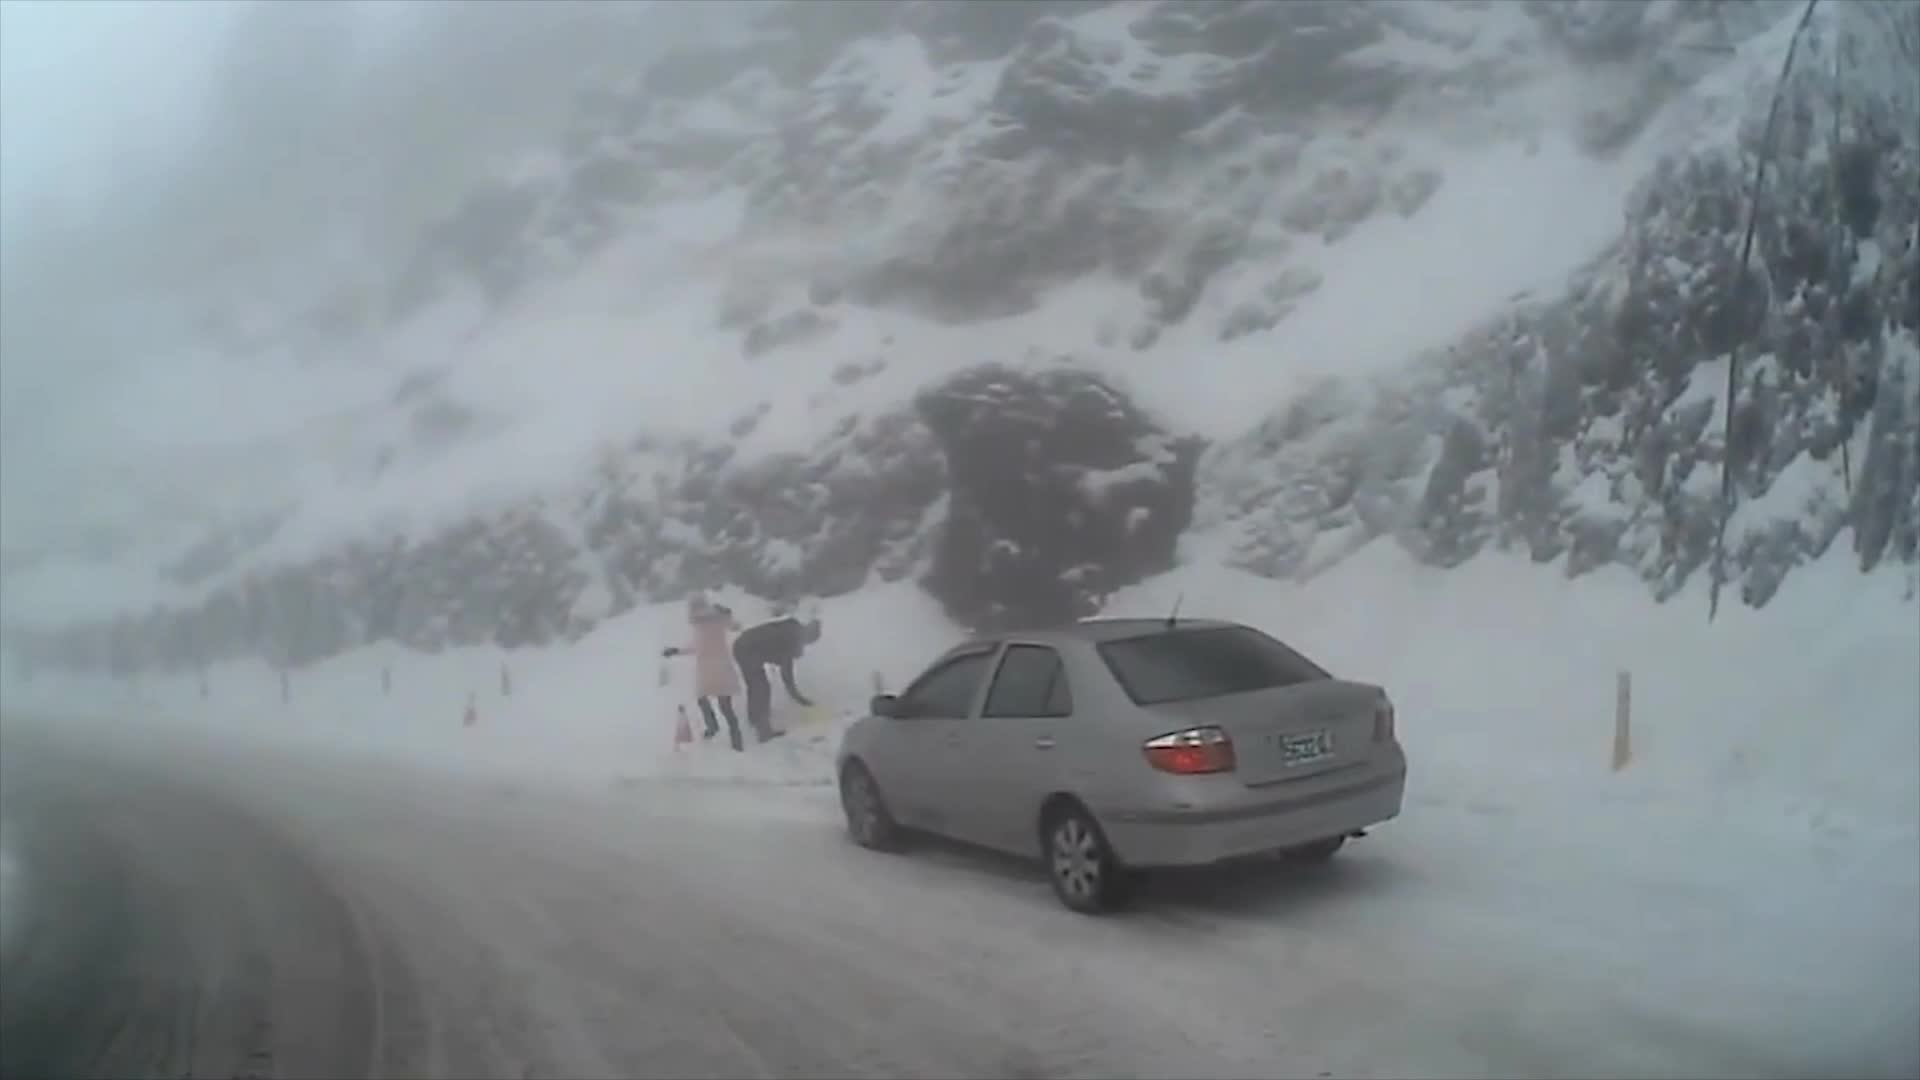pedestrian: (665, 587, 746, 753), (731, 619, 820, 744)
vehicle: (834, 614, 1405, 916)
